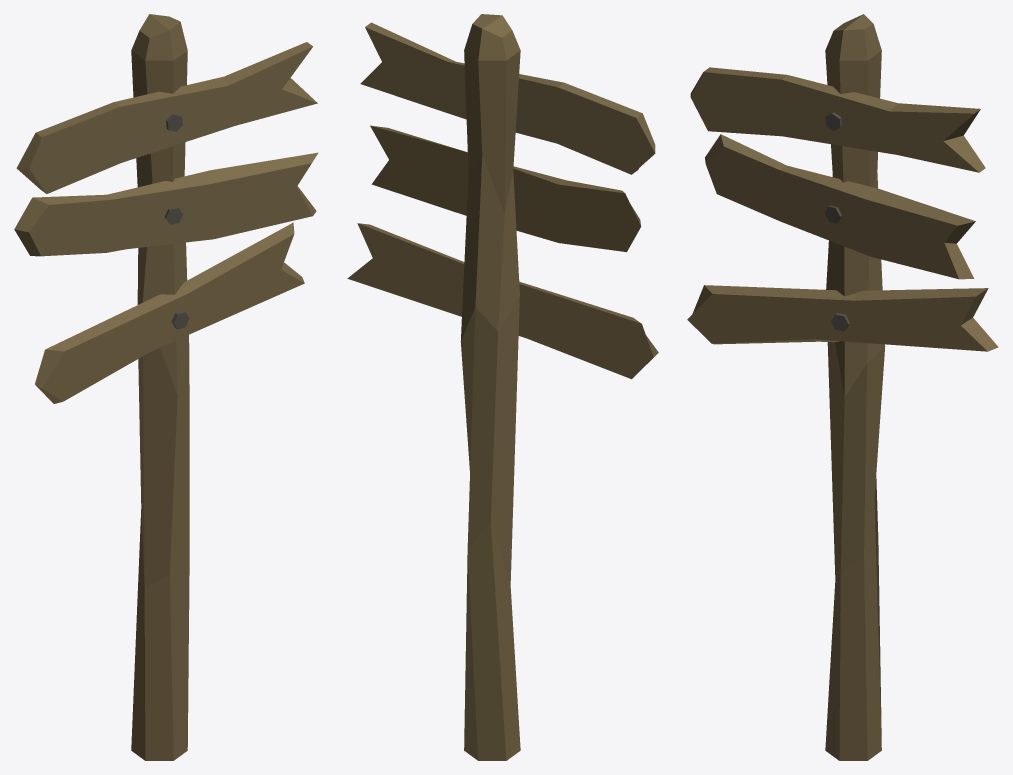
The model's file is Signboard_1.fbx.
The picture shows the model from 3 angles, left to right: view 1: azimuth 30°, elevation 25°; view 2: azimuth 150°, elevation 25°; view 3: azimuth 330°, elevation 25°; orthographic projection.
Visible parts, largest first — view 1: Signboard_1; view 2: Signboard_1; view 3: Signboard_1.
Boxes of the visible parts, <box> form: Signboard_1: <box>14,14,318,760</box>; Signboard_1: <box>347,14,658,760</box>; Signboard_1: <box>687,14,998,760</box>.
Bounding box in the file's own units: 77.96 × 183 × 17.63.
